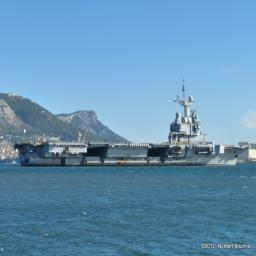Portanaves: (12, 78, 255, 169)
